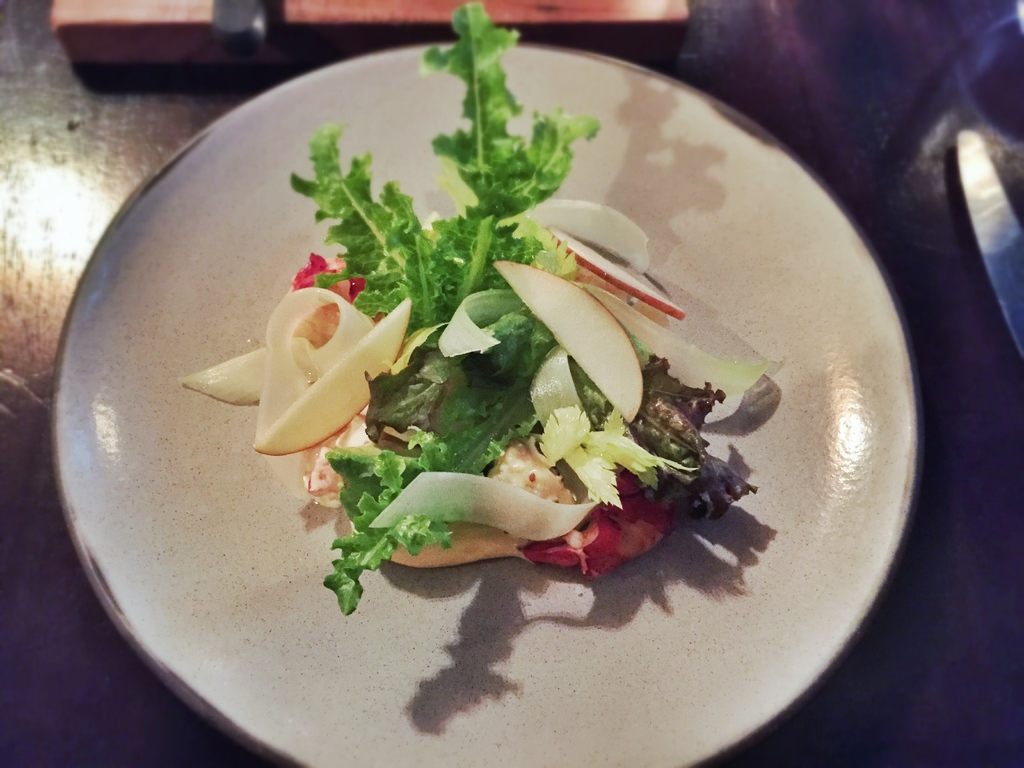salad: (165, 3, 792, 615)
